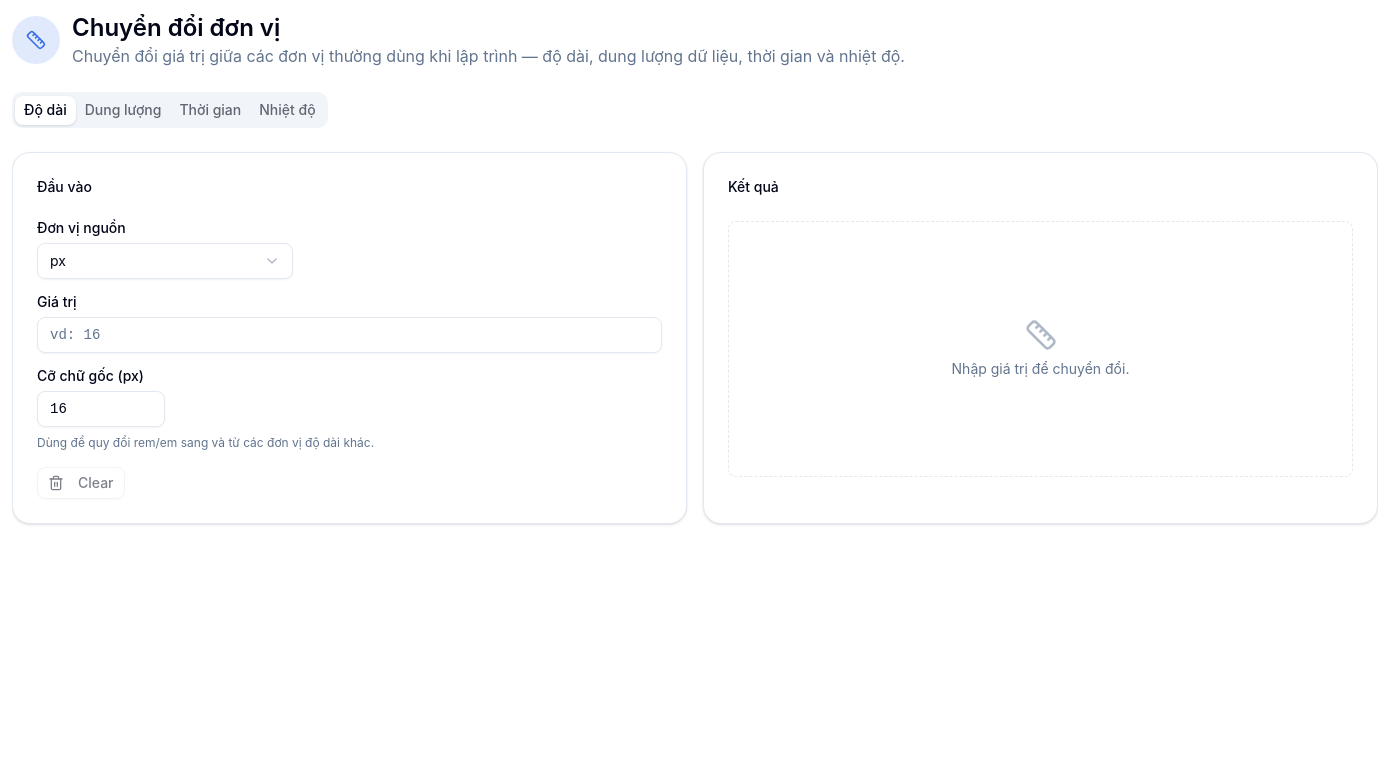
Test: UnitConverterScreen › live-converts a length input to the other length units
Step 1. Type "16" into the field labelled "Giá trị" → (350, 335), box [37,317,662,353]
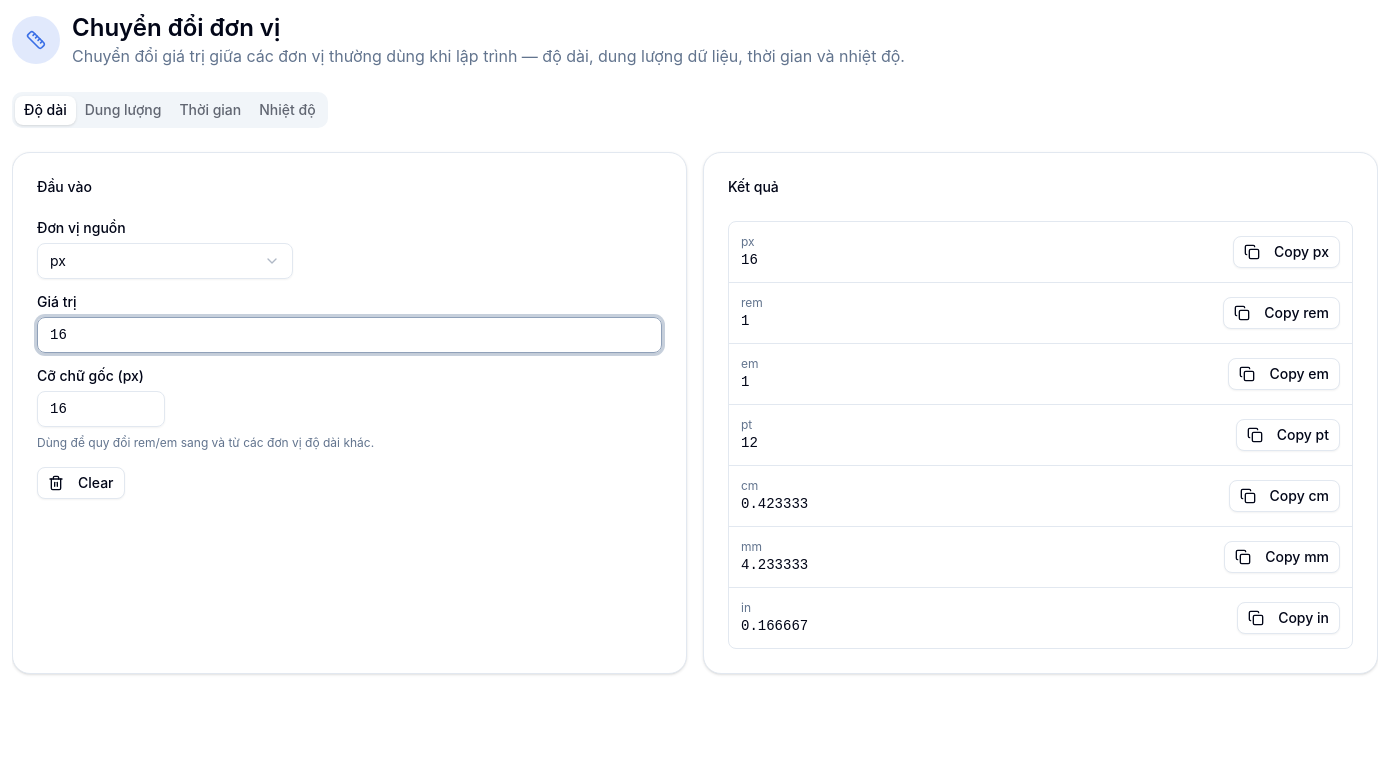
expect the text "12" is shown: met, box [741,433,758,453]
